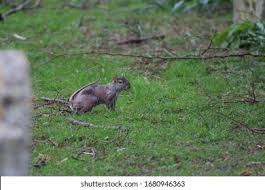squirrel: (68, 74, 131, 112)
